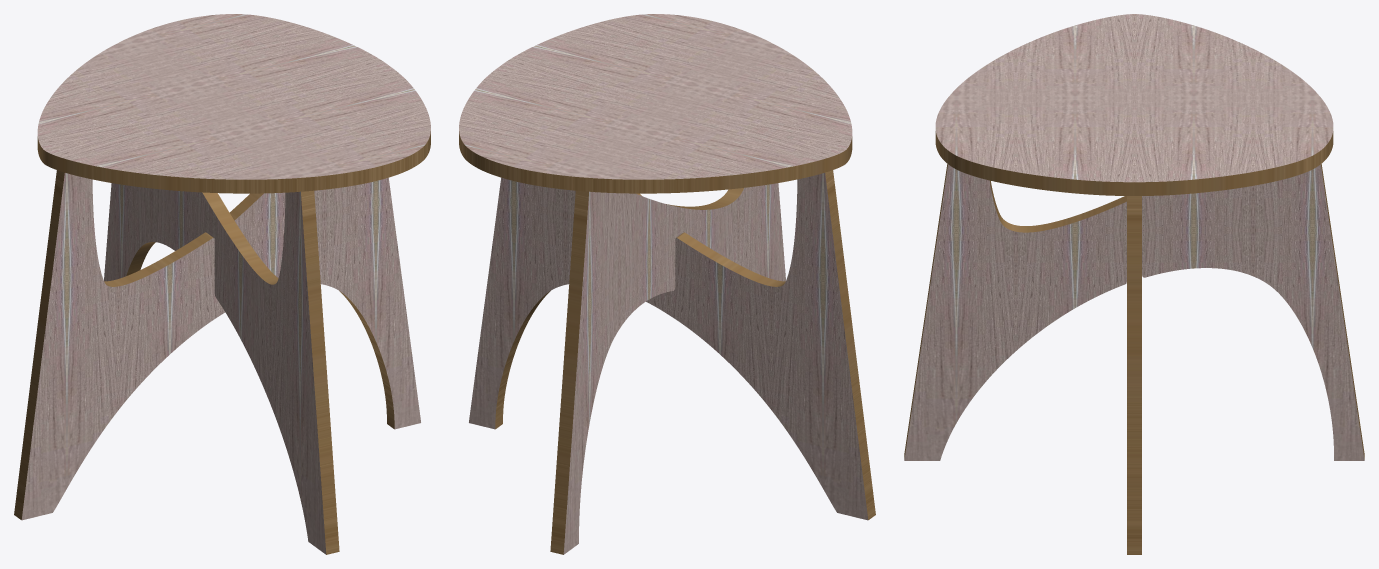
The model's file is NODO_BANQUETA_CRUZ_PARAISO_V3_MAESTRO_CORREGIDO.glb.
3 renders of one model, left to right at view 1: azimuth 30°, elevation 25°; view 2: azimuth 150°, elevation 25°; view 3: azimuth 270°, elevation 25°, orthographic.
Visible parts, largest first — view 1: Tapa, Lateral_2, Lateral_1; view 2: Tapa, Lateral_2, Lateral_1; view 3: Tapa, Lateral_1, Lateral_2.
Part boxes in pixels (x1,y1,x2,y2): Tapa: (37,14,430,193); Lateral_2: (14,170,420,520); Lateral_1: (104,183,339,554); Tapa: (459,14,852,193); Lateral_2: (469,170,875,520); Lateral_1: (550,183,785,554); Tapa: (935,14,1333,195); Lateral_1: (904,164,1364,460); Lateral_2: (1127,196,1141,554).
Bounding box in the file's own units: 0.5431 × 0.468 × 0.5431.
2 materials, 2 textured.
